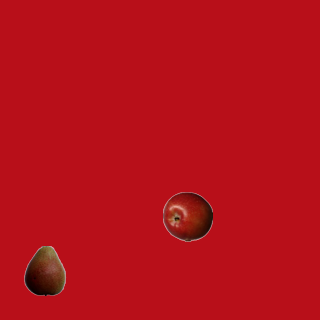Apple Braeburn: (162, 191, 212, 241)
Pear Forelle: (19, 245, 69, 295)
